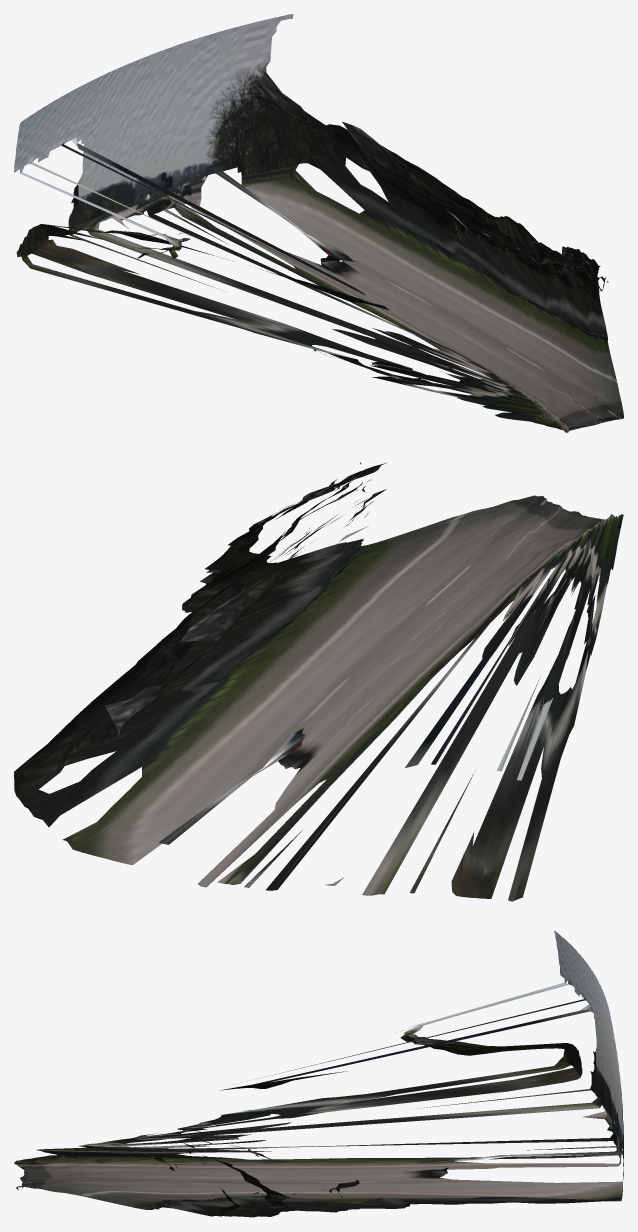
3 renders of one model, top to bottom at view 1: azimuth 30°, elevation 25°; view 2: azimuth 150°, elevation 25°; view 3: azimuth 270°, elevation 25°, orthographic. The views are drawn at different scales.
Visible parts, largest first — view 1: defaultobject; view 2: defaultobject; view 3: defaultobject.
Boxes of the visible parts, <box> form: defaultobject: <box>14,14,623,432</box>; defaultobject: <box>14,462,623,901</box>; defaultobject: <box>14,930,623,1217</box>.
Bounding box in the file's own units: 30.23 × 12.46 × 44.89.
Materials: 1 (1 with a texture image).
